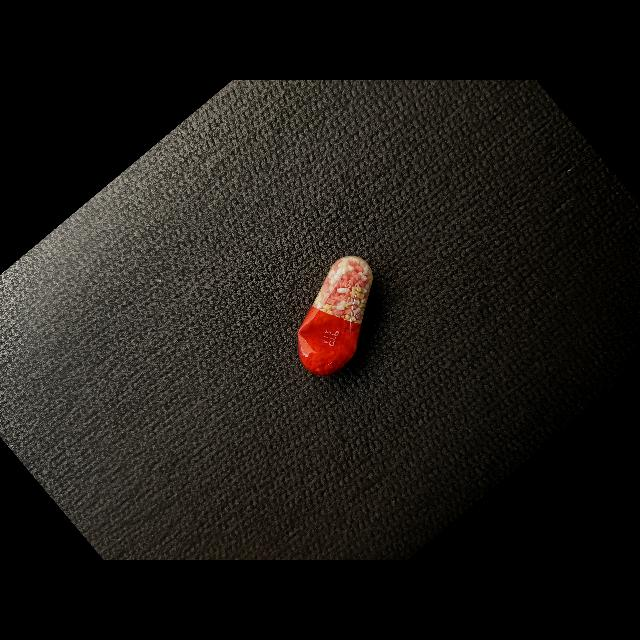Defective Capsule: (297, 256, 373, 376)
